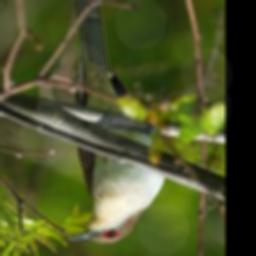Cuckoo: (64, 0, 169, 247)
